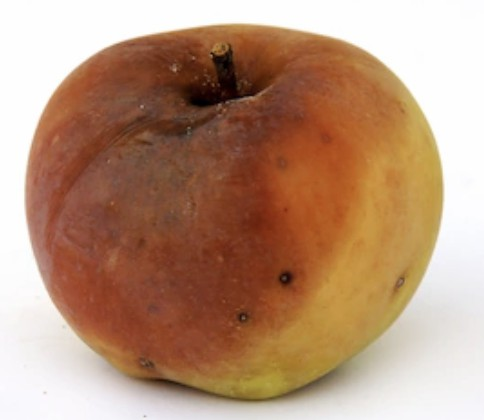rotten_apple: (26, 23, 445, 402)
